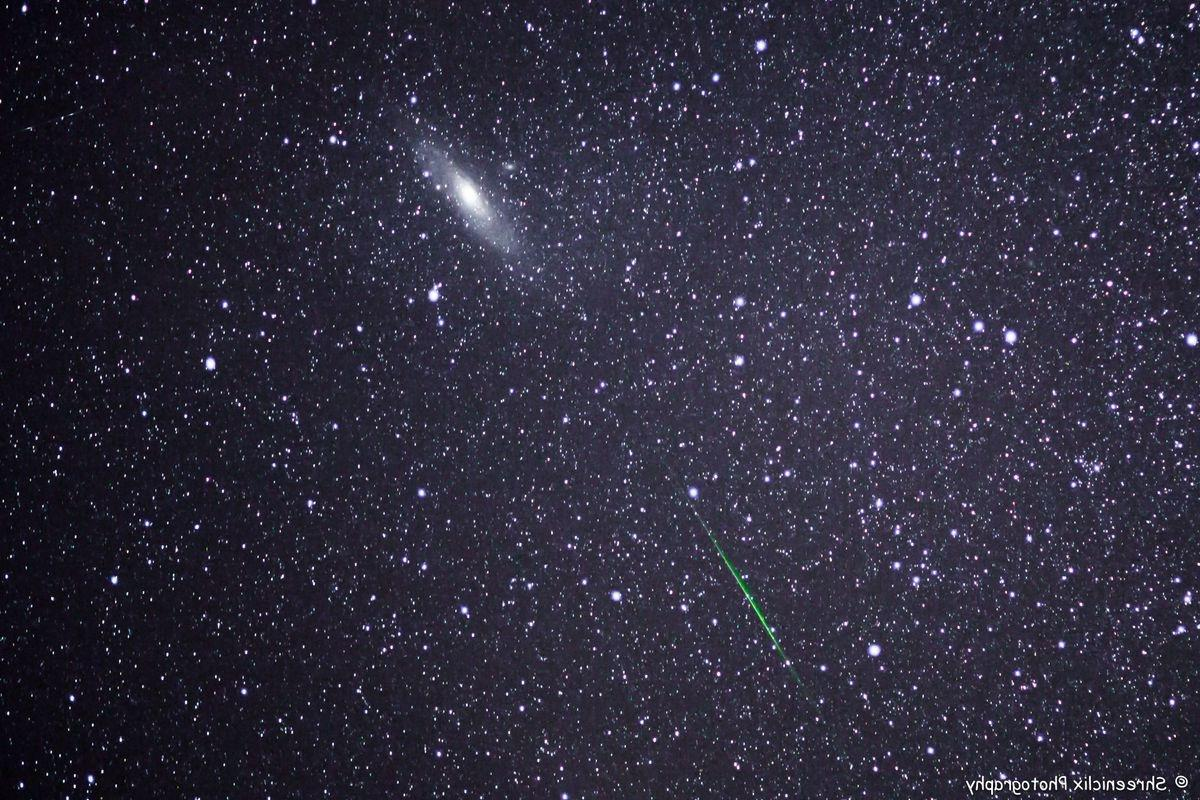meteorite: (677, 496, 827, 715)
